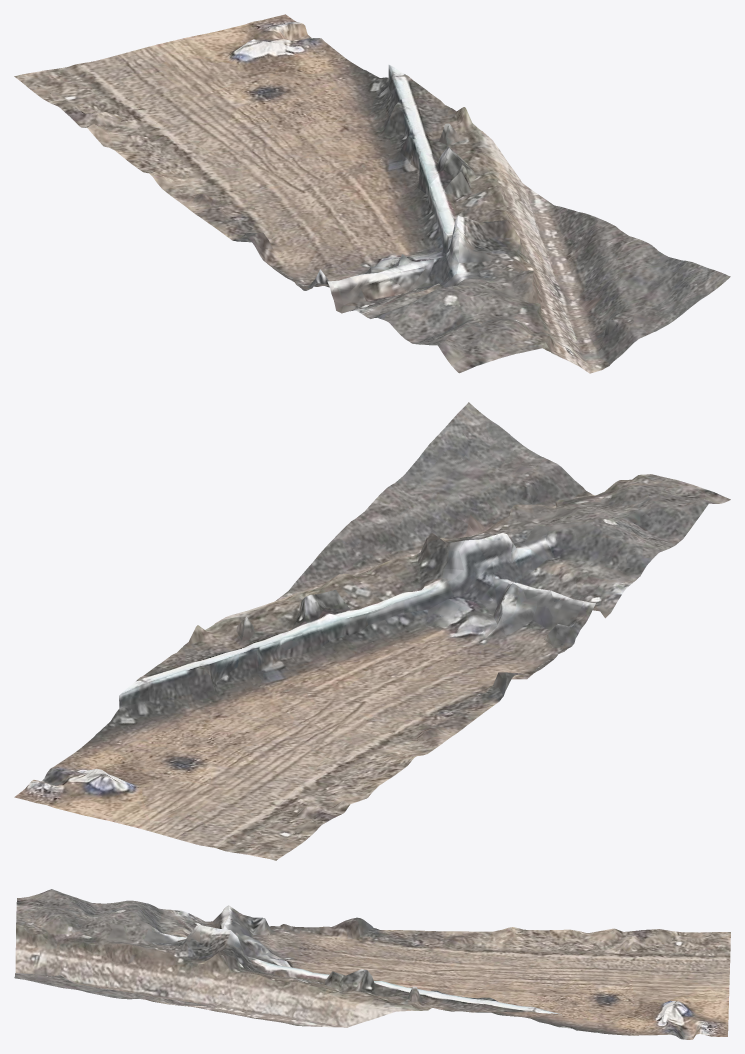
Rendered from Tile_+010_+007_L21_0uuuu00.glb.
3 views of the same model, one above another, from view 1: azimuth 30°, elevation 25°; view 2: azimuth 150°, elevation 25°; view 3: azimuth 270°, elevation 25° (orthographic). The views are drawn at different scales.
Parts seen in each view (by area): view 1: rtc; view 2: rtc; view 3: rtc.
Part boxes in pixels (<box>): rtc: <box>14,14,730,373</box>; rtc: <box>14,402,730,860</box>; rtc: <box>14,889,730,1039</box>.
Bounding box in the file's own units: 11.4 × 3.13 × 32.29.
1 material, 1 textured.
